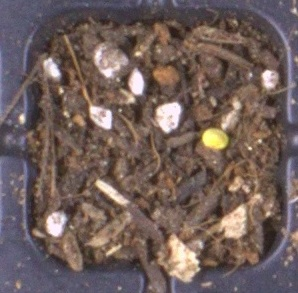chilli seed: (202, 127, 229, 150)
